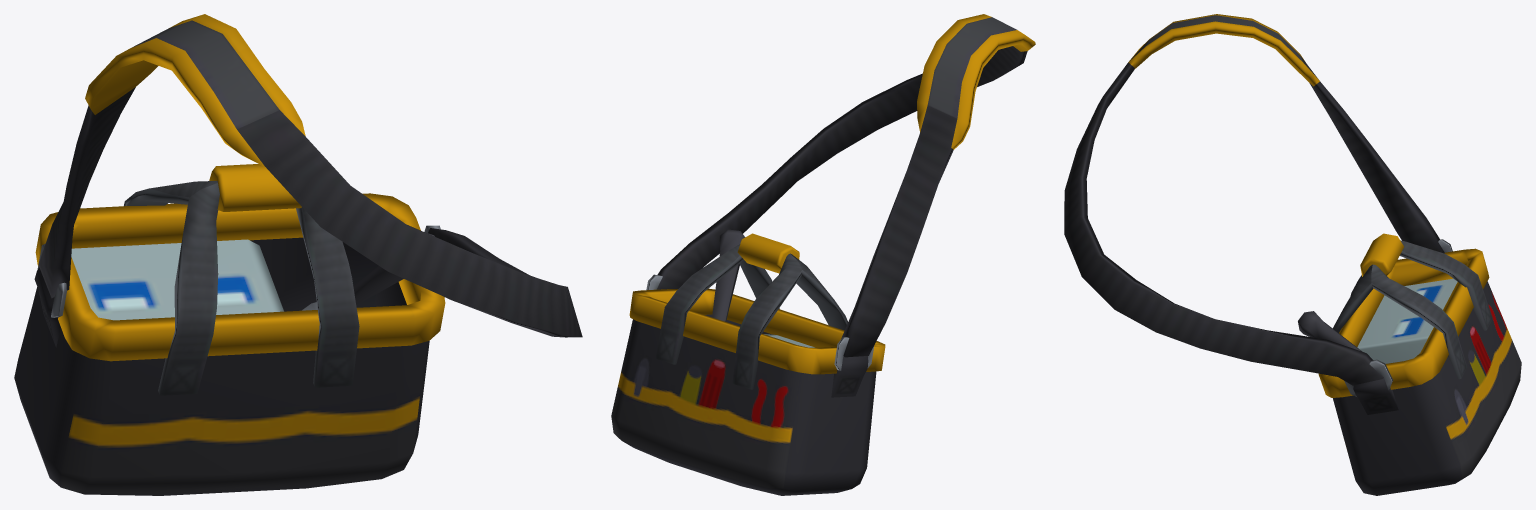
The model's file is BagShoulderTool0.glb.
The picture shows the model from 3 angles, left to right: view 1: azimuth 30°, elevation 25°; view 2: azimuth 150°, elevation 25°; view 3: azimuth 270°, elevation 25°; orthographic projection. The views are drawn at different scales.
Parts seen in each view (by area): view 1: Belt__mBag; view 2: Belt__mBag; view 3: Belt__mBag.
Boxes of the visible parts, bbox=[...] form: Belt__mBag: bbox=[14, 14, 582, 495]; Belt__mBag: bbox=[611, 14, 1035, 495]; Belt__mBag: bbox=[1064, 14, 1521, 495].
Size of the model in its own units: 3.22 by 4.47 by 4.8.
Materials: 1 (1 with a texture image).
